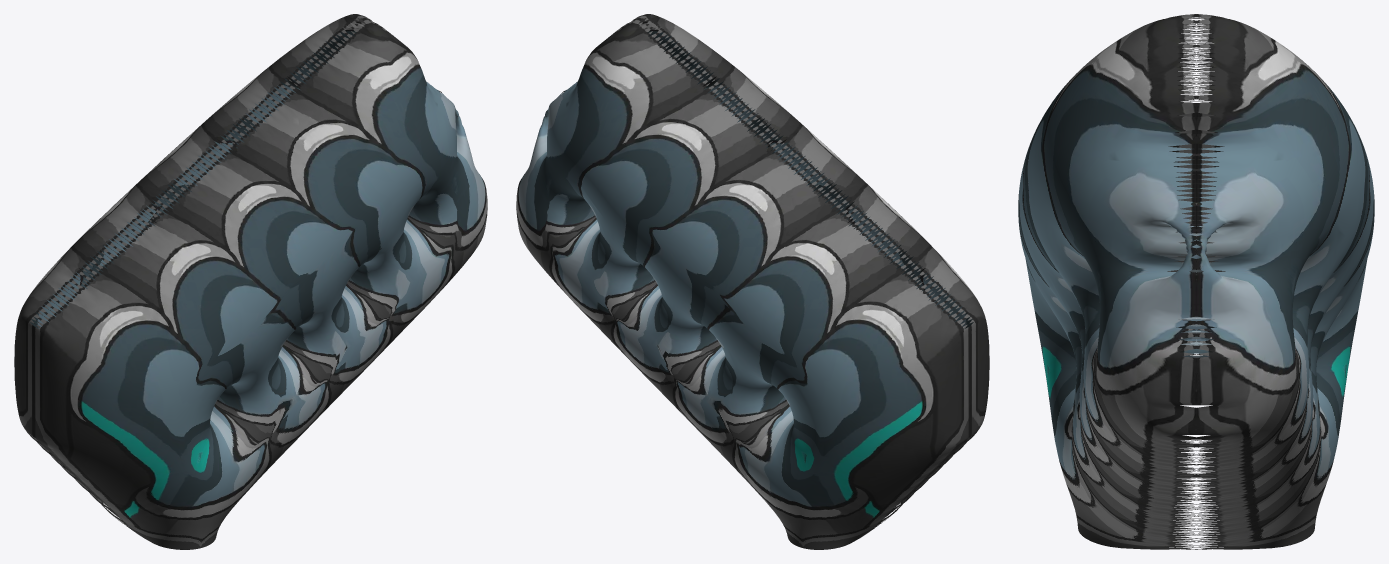
The model's file is return_pipe_bank.glb.
3 views of the same model, side by side, from view 1: azimuth 30°, elevation 25°; view 2: azimuth 150°, elevation 25°; view 3: azimuth 270°, elevation 25° (orthographic). The views are drawn at different scales.
Visible parts, largest first — view 1: return_pipe_bank; view 2: return_pipe_bank; view 3: return_pipe_bank.
Part boxes in pixels (x1,y1,x2,y2): return_pipe_bank: (14, 14, 487, 549); return_pipe_bank: (516, 14, 989, 549); return_pipe_bank: (1018, 14, 1374, 549).
Size of the model in its own units: 0.9889 by 0.9621 by 0.4721.
1 material, 1 textured.
